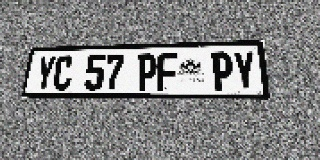5: (84, 55, 106, 90)
7: (103, 54, 124, 90)
C: (52, 55, 74, 90)
F: (157, 53, 177, 90)
P: (211, 52, 234, 90), (136, 53, 157, 90)
Y: (232, 51, 257, 91), (34, 56, 56, 90)
